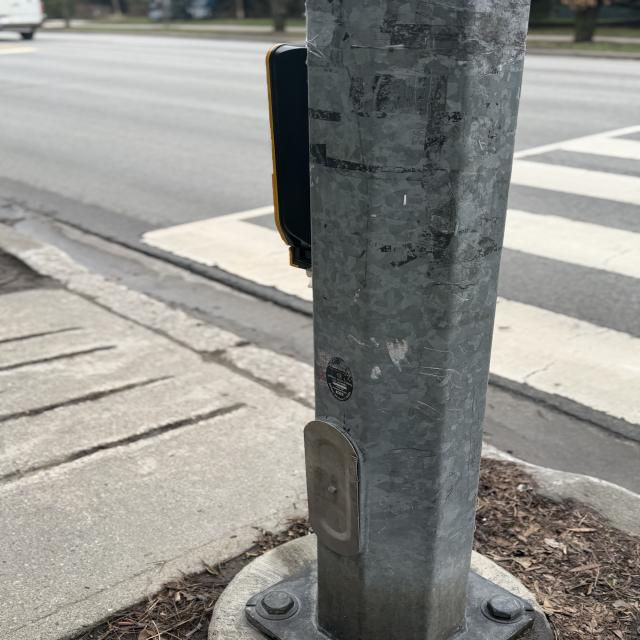Electrical Pole: (245, 3, 542, 639)
